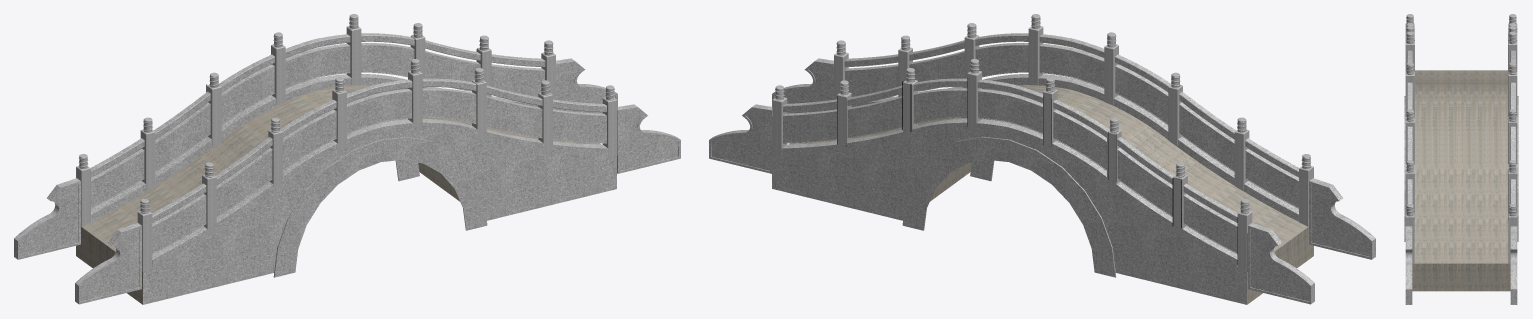
File: bridge.gltf
The picture shows the model from 3 angles, left to right: view 1: azimuth 30°, elevation 25°; view 2: azimuth 150°, elevation 25°; view 3: azimuth 270°, elevation 25°; orthographic projection. The views are drawn at different scales.
Parts seen in each view (by area): view 1: 拱桥06; view 2: 拱桥06; view 3: 拱桥06.
Part boxes in pixels (x1,y1,x2,y2): 拱桥06: [14, 14, 680, 304]; 拱桥06: [709, 14, 1375, 304]; 拱桥06: [1404, 14, 1518, 304].
Bounding box in the file's own units: 16.44 × 4.69 × 3.23.
3 materials, 2 textured.
